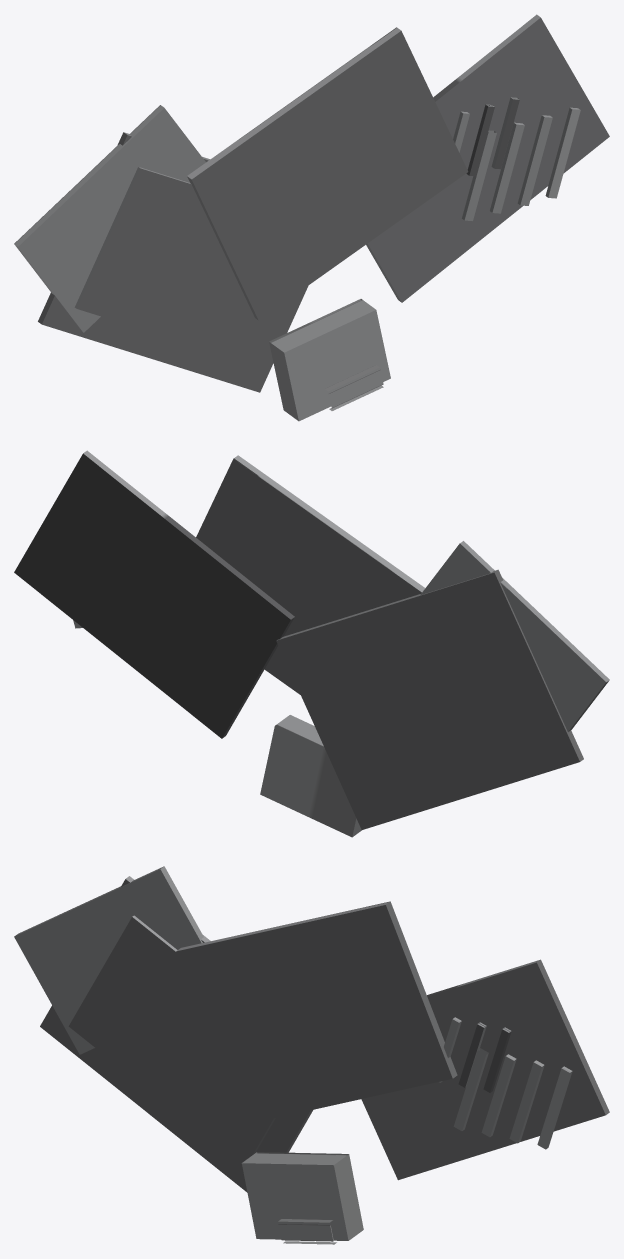
The picture shows the model from 3 angles, top to bottom: view 1: azimuth 30°, elevation 25°; view 2: azimuth 150°, elevation 25°; view 3: azimuth 330°, elevation 25°; orthographic projection.
Bounding box in the file's own units: 1.01 × 0.5725 × 0.083.
